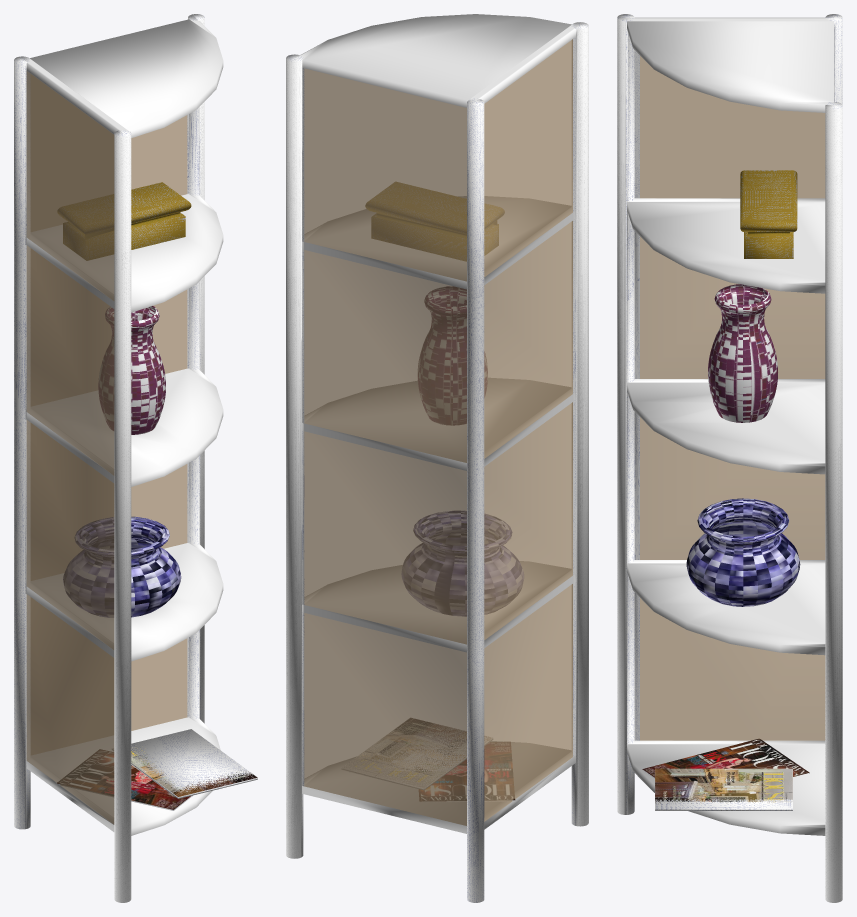
3 renders of one model, left to right at view 1: azimuth 30°, elevation 25°; view 2: azimuth 150°, elevation 25°; view 3: azimuth 270°, elevation 25°, orthographic. The views are drawn at different scales.
Visible parts, largest first — view 1: SketchUp (×26), image_1, image_0; view 2: SketchUp (×23), image_1, image_0; view 3: SketchUp (×18), image_0, image_1.
Part boxes in pixels (box(x1,y1,x2,y2)): SketchUp (×26): box(14, 14, 257, 902); image_1: box(57, 749, 190, 809); image_0: box(113, 745, 257, 796); SketchUp (×23): box(286, 14, 588, 902); image_1: box(419, 742, 515, 801); image_0: box(343, 718, 465, 787); SketchUp (×18): box(617, 14, 842, 902); image_0: box(655, 768, 792, 803); image_1: box(642, 739, 809, 777).
Size of the model in its own units: 20.47 by 20.47 by 79.53.
Materials: 11 (5 with a texture image).
